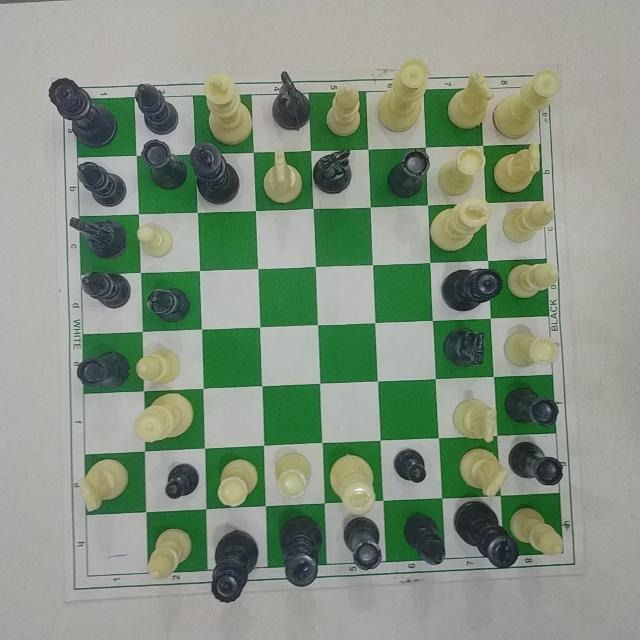black-bishop: (73, 157, 131, 207), (401, 509, 445, 572), (76, 267, 135, 312), (135, 79, 181, 135), (149, 287, 195, 323)
black-king: (449, 499, 521, 574), (279, 511, 322, 591), (192, 141, 244, 205)
black-knight: (68, 211, 130, 262), (270, 69, 310, 137), (440, 322, 490, 374), (311, 143, 357, 195)
black-pawn: (163, 460, 205, 504), (391, 444, 428, 490)
black-queen: (44, 73, 118, 150), (207, 527, 259, 606), (438, 265, 505, 315)
black-rook: (142, 137, 190, 198), (503, 382, 561, 432), (509, 439, 568, 486), (74, 346, 132, 391), (386, 146, 433, 199), (341, 516, 385, 572)
white-bishop: (507, 502, 567, 557), (143, 525, 194, 587), (501, 197, 559, 245), (321, 79, 366, 140), (505, 259, 563, 301), (132, 346, 181, 388)
white-king: (200, 68, 256, 147), (429, 199, 493, 255), (327, 450, 378, 518)
white-knight: (443, 71, 493, 134), (75, 459, 130, 515), (493, 140, 545, 198), (260, 146, 304, 209), (460, 445, 508, 500), (452, 388, 498, 444)
white-pawn: (134, 219, 179, 261)
white-queen: (491, 68, 563, 137), (374, 60, 430, 137), (131, 392, 199, 444)
white-rook: (499, 325, 561, 377), (212, 450, 262, 509), (437, 142, 487, 197), (271, 442, 312, 504)
